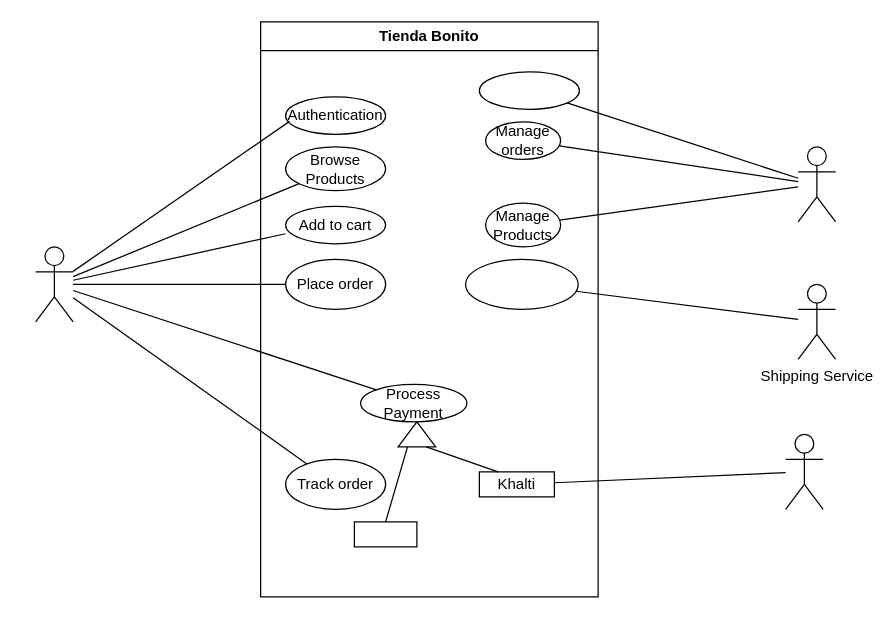
Some shapes in this 895 by 619 pixel diagram are drawn without their labels. The shapes that lost their labels are listed below. From the top down, each one's box as (x1, y1, x2, y2) in pixels, then its label:
(478, 71, 579, 109): Handle Refunds
(797, 146, 836, 222): Admin
(34, 246, 73, 322): Customer
(464, 258, 578, 309): Deliver Orders
(784, 433, 823, 509): Payment System
(353, 521, 417, 547): COD
